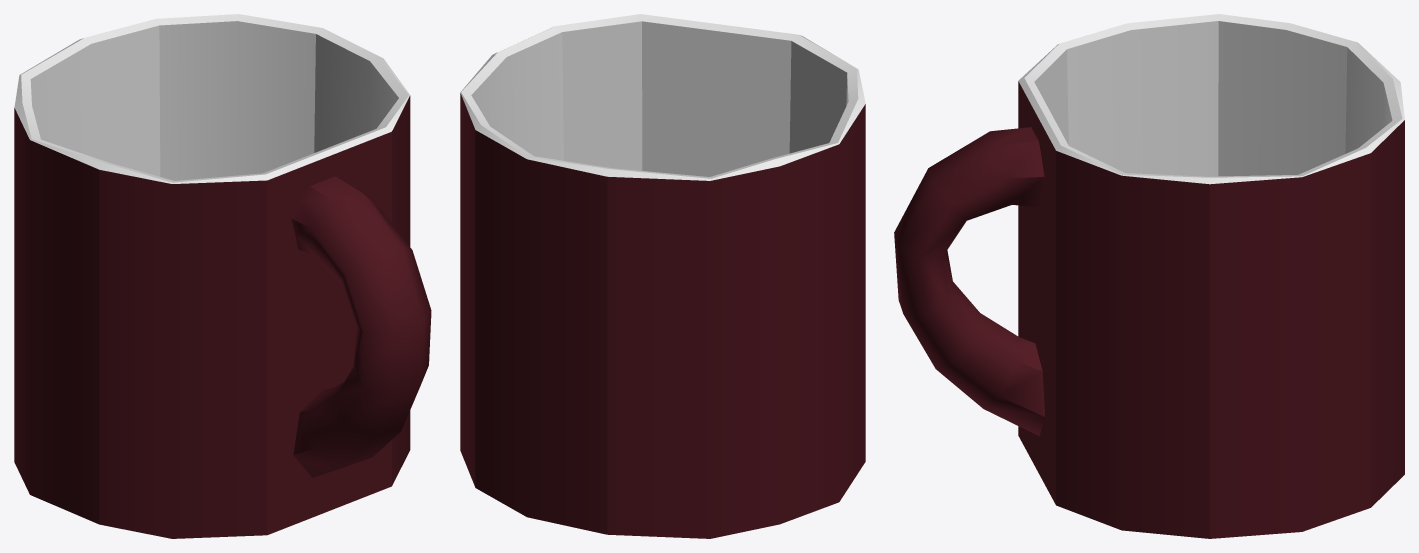
File: Mug.fbx
3 renders of one model, left to right at view 1: azimuth 30°, elevation 25°; view 2: azimuth 150°, elevation 25°; view 3: azimuth 270°, elevation 25°, orthographic.
Visible parts, largest first — view 1: Cup; view 2: Cup; view 3: Cup.
Boxes of the visible parts, x1,y1,x2,y2 form: Cup: [14, 14, 431, 538]; Cup: [460, 14, 865, 538]; Cup: [894, 14, 1404, 538].
Bounding box in the file's own units: 4.29 × 4.22 × 5.44.
